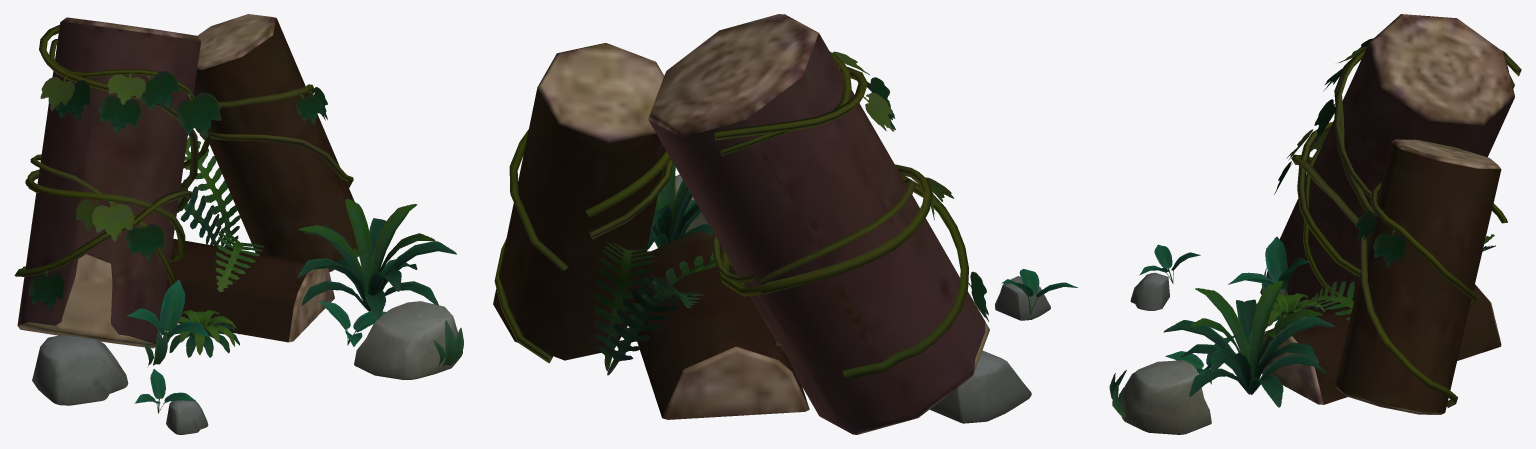
The model's file is logs-ferns.glb.
The picture shows the model from 3 angles, left to right: view 1: azimuth 30°, elevation 25°; view 2: azimuth 150°, elevation 25°; view 3: azimuth 270°, elevation 25°; orthographic projection. The views are drawn at different scales.
Bounding box in the file's own units: 19.55 × 15.69 × 18.3.
Materials: 4 (4 with a texture image).
